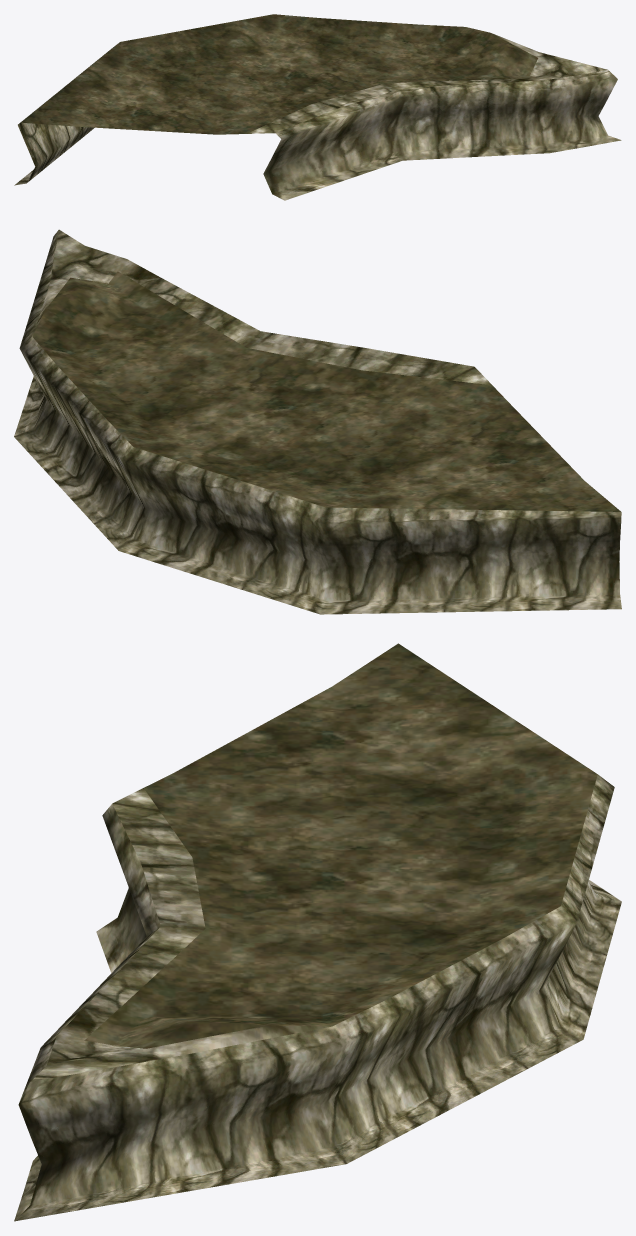
File: CB_NEWPLAYSURFACE_CB_PLAYSURFACE160.fbx
The picture shows the model from 3 angles, top to bottom: view 1: azimuth 30°, elevation 25°; view 2: azimuth 150°, elevation 25°; view 3: azimuth 270°, elevation 25°; orthographic projection. The views are drawn at different scales.
Parts seen in each view (by area): view 1: CB_NEWPLAYSURFACE_CB_PLAYSURFACE160; view 2: CB_NEWPLAYSURFACE_CB_PLAYSURFACE160; view 3: CB_NEWPLAYSURFACE_CB_PLAYSURFACE160.
Boxes of the visible parts, x1=… form: CB_NEWPLAYSURFACE_CB_PLAYSURFACE160: x1=14, y1=14, x2=621, y2=200; CB_NEWPLAYSURFACE_CB_PLAYSURFACE160: x1=14, y1=229, x2=621, y2=614; CB_NEWPLAYSURFACE_CB_PLAYSURFACE160: x1=14, y1=643, x2=621, y2=1221.
Size of the model in its own units: 249858 by 35112 by 139421.
Materials: 3 (3 with a texture image).
